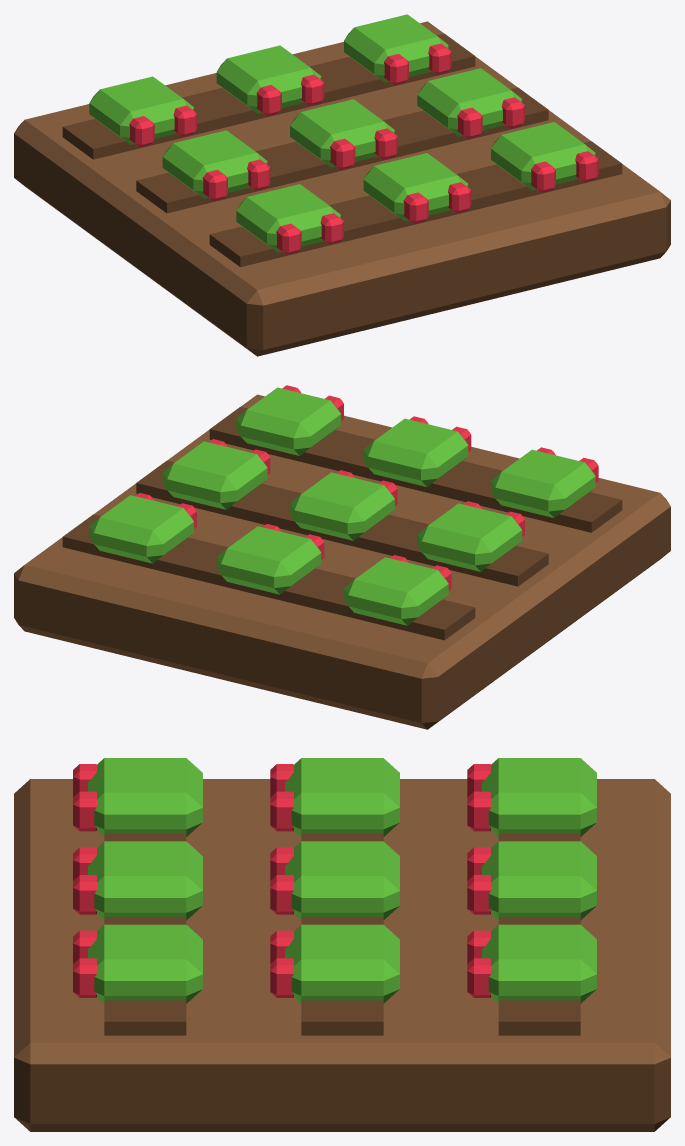
Rendered from StrawberryPatch.fbx.
The picture shows the model from 3 angles, top to bottom: view 1: azimuth 30°, elevation 25°; view 2: azimuth 150°, elevation 25°; view 3: azimuth 270°, elevation 25°; orthographic projection. The views are drawn at different scales.
Visible parts, largest first — view 1: StrawberryPatch; view 2: StrawberryPatch; view 3: StrawberryPatch.
Part boxes in pixels (x1,y1,x2,y2): StrawberryPatch: [14, 14, 670, 356]; StrawberryPatch: [14, 385, 670, 729]; StrawberryPatch: [14, 758, 670, 1131].
Bounding box in the file's own units: 4 × 0.95 × 4.
Materials: 1 (1 with a texture image).
